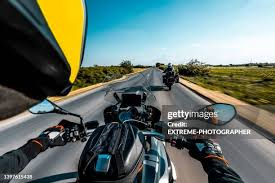motorcycle: (25, 85, 238, 183), (158, 64, 186, 94)
